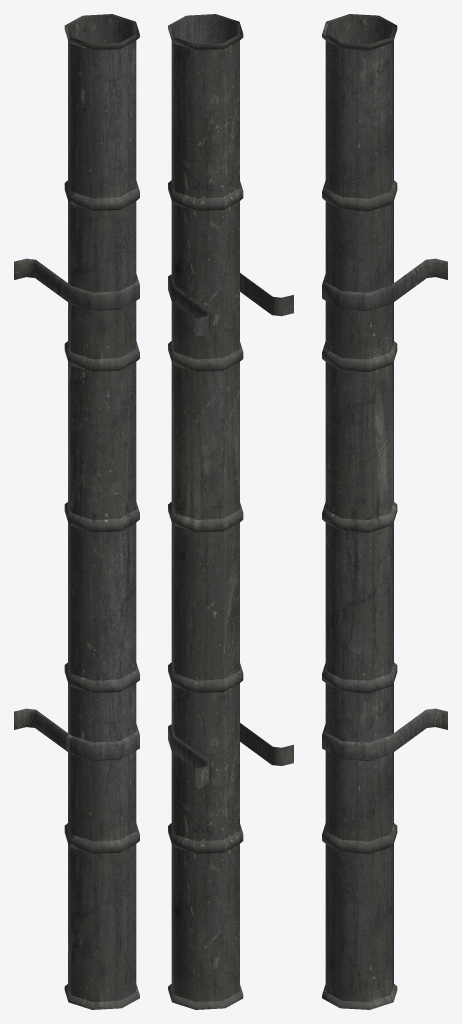
File: SM_Corridor_Pipe_Set_Gray_A.fbx
3 renders of one model, left to right at view 1: azimuth 30°, elevation 25°; view 2: azimuth 210°, elevation 25°; view 3: azimuth 330°, elevation 25°, orthographic.
Parts seen in each view (by area): view 1: SM_Corridor_Pipe_Set_Gray_A; view 2: SM_Corridor_Pipe_Set_Gray_A; view 3: SM_Corridor_Pipe_Set_Gray_A.
Boxes of the visible parts, x1=… form: SM_Corridor_Pipe_Set_Gray_A: x1=14, y1=14, x2=139, y2=1009; SM_Corridor_Pipe_Set_Gray_A: x1=168, y1=14, x2=293, y2=1009; SM_Corridor_Pipe_Set_Gray_A: x1=322, y1=14, x2=447, y2=1009.
Size of the model in its own units: 32 by 300 by 33.
